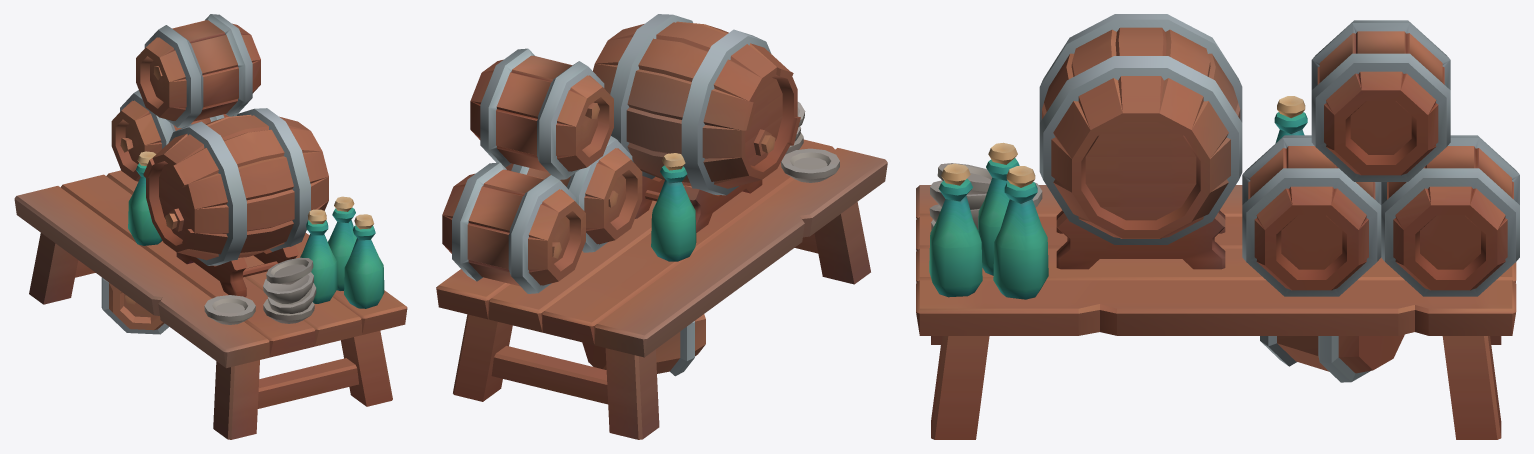
File: kay-mesa-longa-posta.gltf
3 views of the same model, side by side, from view 1: azimuth 30°, elevation 25°; view 2: azimuth 150°, elevation 25°; view 3: azimuth 270°, elevation 25° (orthographic). The views are drawn at different scales.
Parts seen in each view (by area): view 1: table_long_decorated_C; view 2: table_long_decorated_C; view 3: table_long_decorated_C.
Boxes of the visible parts, bbox=[...] form: table_long_decorated_C: bbox=[14, 14, 407, 439]; table_long_decorated_C: bbox=[436, 14, 887, 439]; table_long_decorated_C: bbox=[916, 14, 1519, 439].
Bounding box in the file's own units: 1.3 × 1.8 × 2.62.
1 material, 1 textured.
